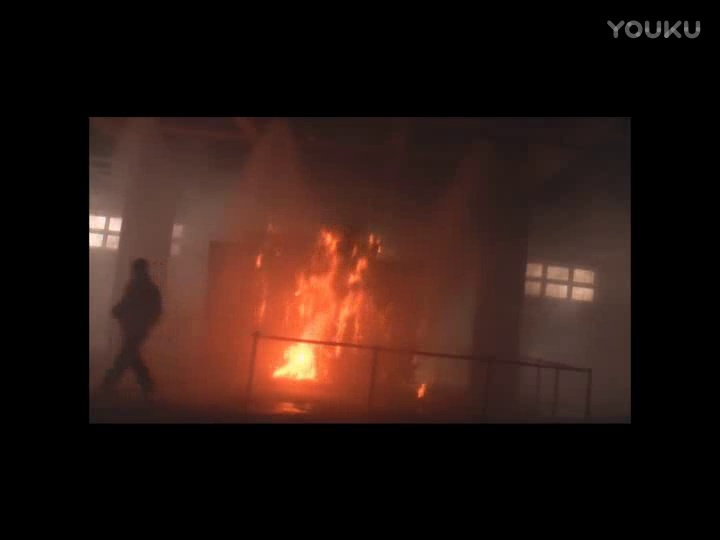fire: (295, 213, 385, 341), (276, 334, 324, 382)
